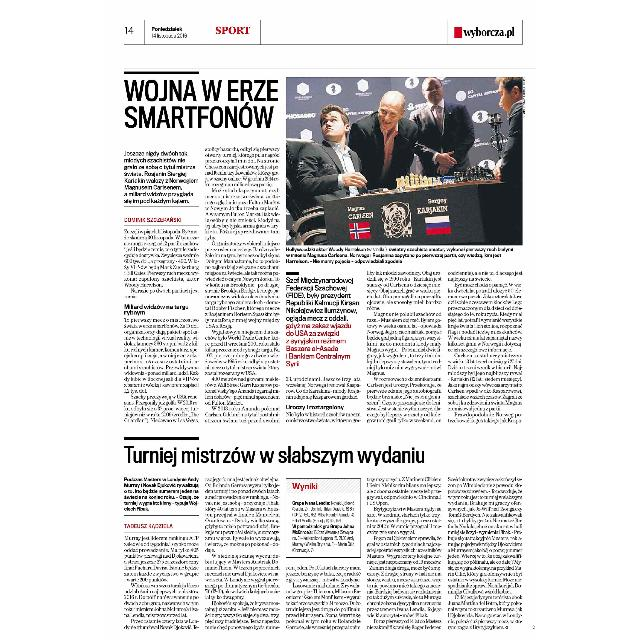article: (121, 69, 525, 429), (123, 433, 527, 632)
